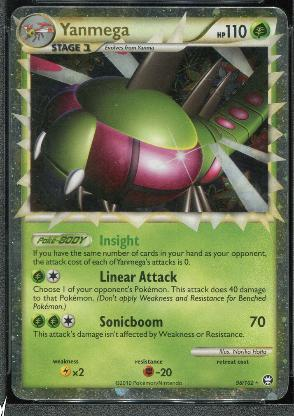Card: (9, 3, 289, 403)
